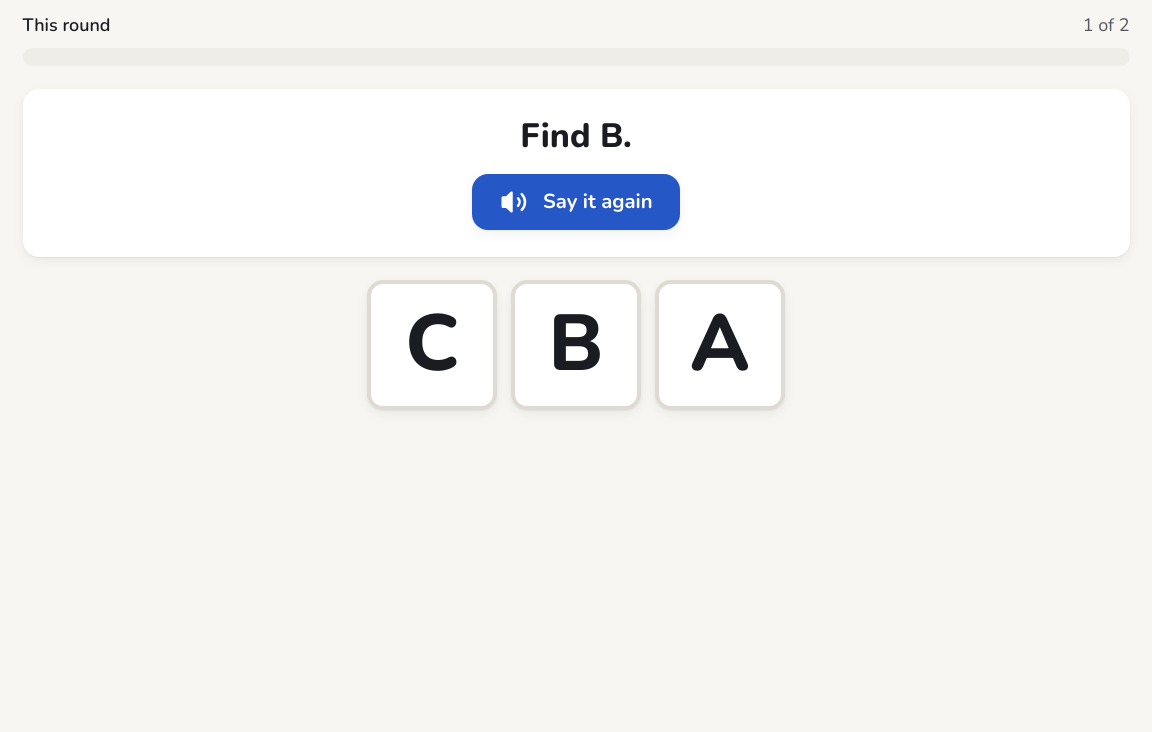
Test case: identification practice › celebrates a correct answer and offers the next question
Step 1. Click the button "B" → click(576, 345), box [511,280,641,410]
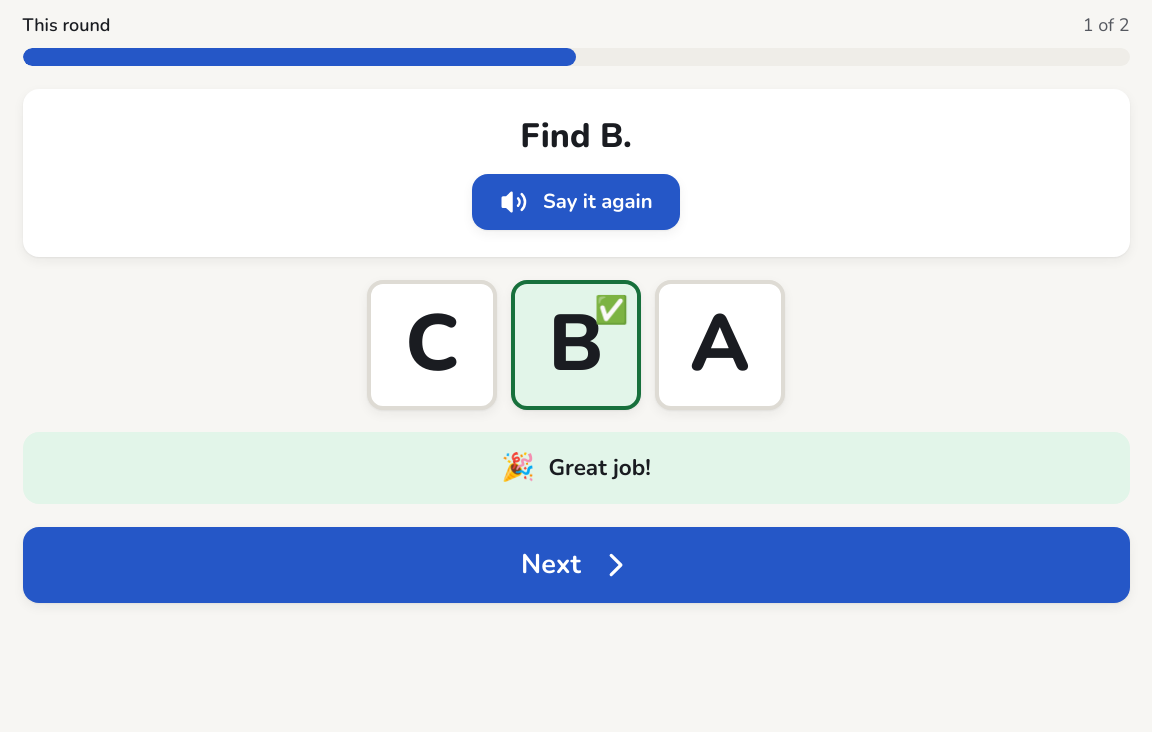
Expected: the button "Next" is shown, [22,527,1130,603]
